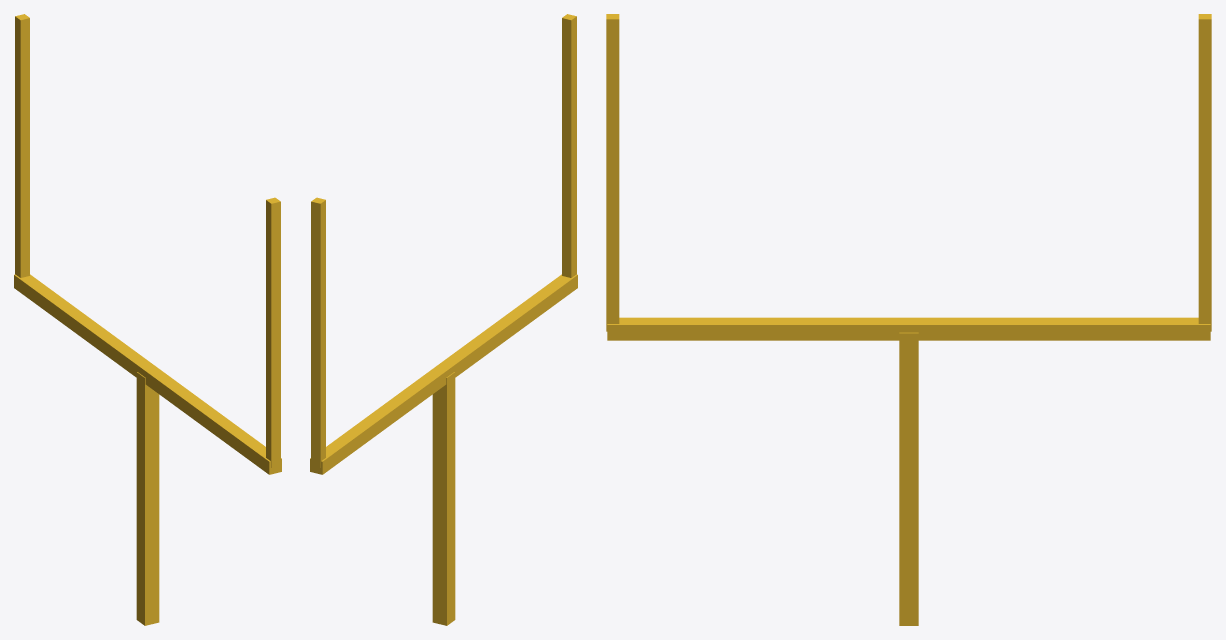
File: goalpost_w.glb
3 views of the same model, side by side, from view 1: azimuth 30°, elevation 25°; view 2: azimuth 150°, elevation 25°; view 3: azimuth 270°, elevation 25° (orthographic). The views are drawn at different scales.
Parts seen in each view (by area): view 1: Box2, Box1, Box3, Box4; view 2: Box2, Box1, Box4, Box3; view 3: Box2, Box1, Box3, Box4.
Part boxes in pixels (x1,y1,x2,y2): Box2: [14, 274, 281, 474]; Box1: [136, 372, 159, 625]; Box3: [266, 197, 280, 468]; Box4: [15, 14, 29, 277]; Box2: [310, 274, 577, 474]; Box1: [432, 372, 455, 625]; Box4: [311, 197, 325, 468]; Box3: [562, 14, 576, 277]; Box2: [607, 317, 1210, 340]; Box1: [899, 332, 918, 625]; Box3: [606, 14, 619, 331]; Box4: [1198, 14, 1211, 331].
Bounding box in the file's own units: 0.18 × 6.2 × 5.62.
